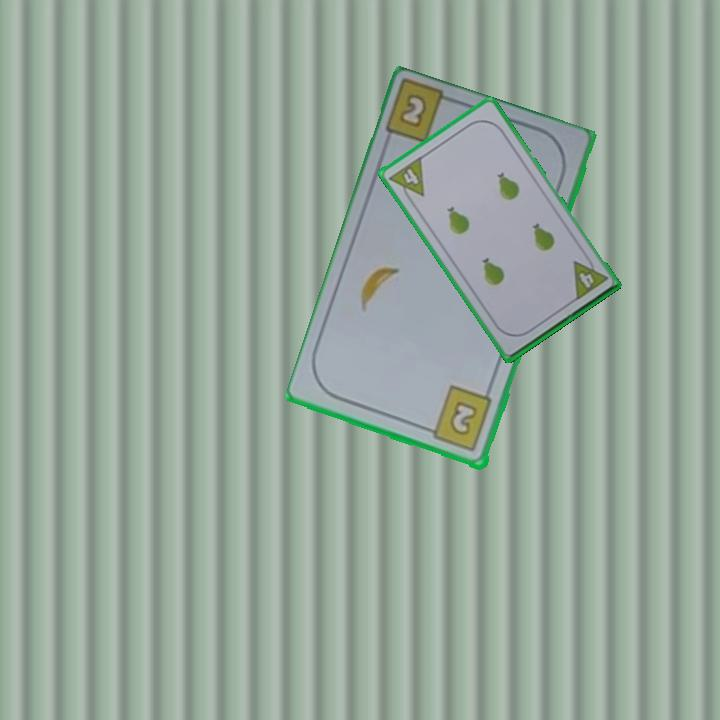2b: (421, 383, 495, 455), (395, 93, 428, 132)
4p: (385, 153, 427, 206), (569, 251, 610, 303)
